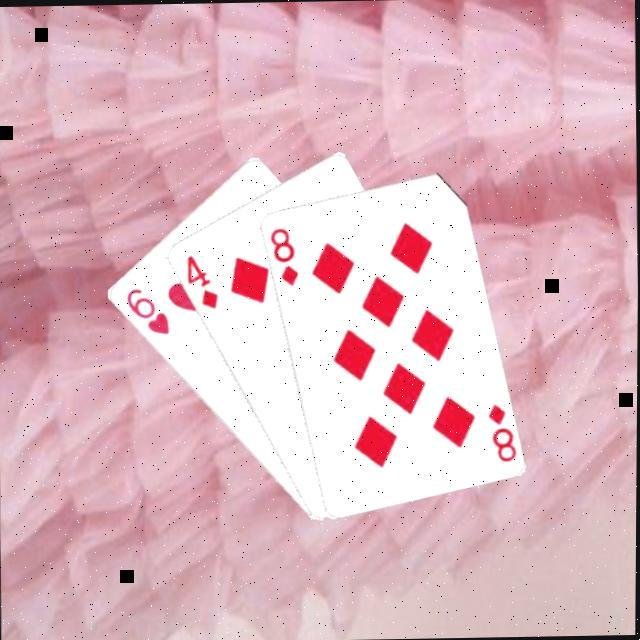4D: (184, 249, 222, 310)
6H: (124, 282, 174, 337)
8D: (268, 222, 303, 287), (486, 398, 521, 463)
